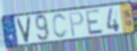4: (106, 6, 121, 34)
9: (35, 13, 51, 43)
C: (51, 13, 70, 40)
E: (84, 9, 105, 37)
P: (68, 11, 85, 39)
V: (15, 15, 32, 44)
